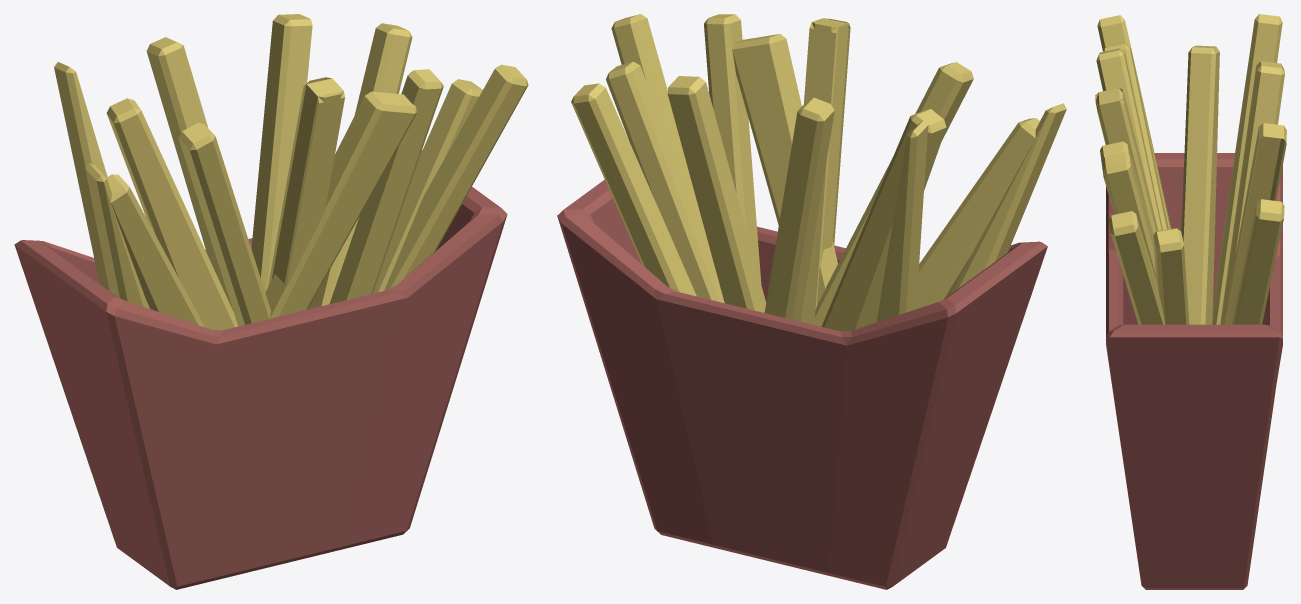
Rendered from Fries.fbx.
3 renders of one model, left to right at view 1: azimuth 30°, elevation 25°; view 2: azimuth 150°, elevation 25°; view 3: azimuth 270°, elevation 25°, orthographic. The views are drawn at different scales.
Parts seen in each view (by area): view 1: 立方体; view 2: 立方体; view 3: 立方体.
Boxes of the visible parts, left/top/right/bottom form: 立方体: left=14, top=14, right=528, bottom=589; 立方体: left=557, top=14, right=1066, bottom=589; 立方体: left=1095, top=14, right=1286, bottom=589.
Bounding box in the file's own units: 117 × 125 × 47.82.
